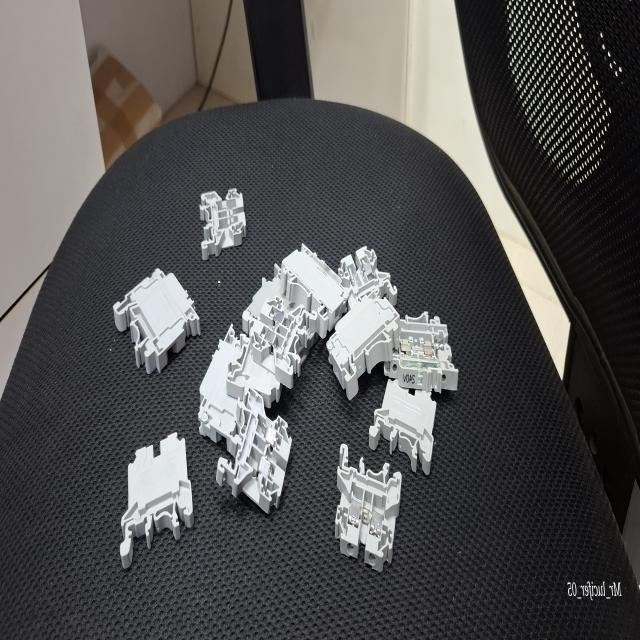Inverted: (116, 426, 202, 568), (363, 382, 451, 478)
Pass: (216, 386, 294, 518), (334, 438, 404, 571), (247, 293, 321, 388)
Reject: (194, 152, 262, 266), (335, 239, 400, 323)
